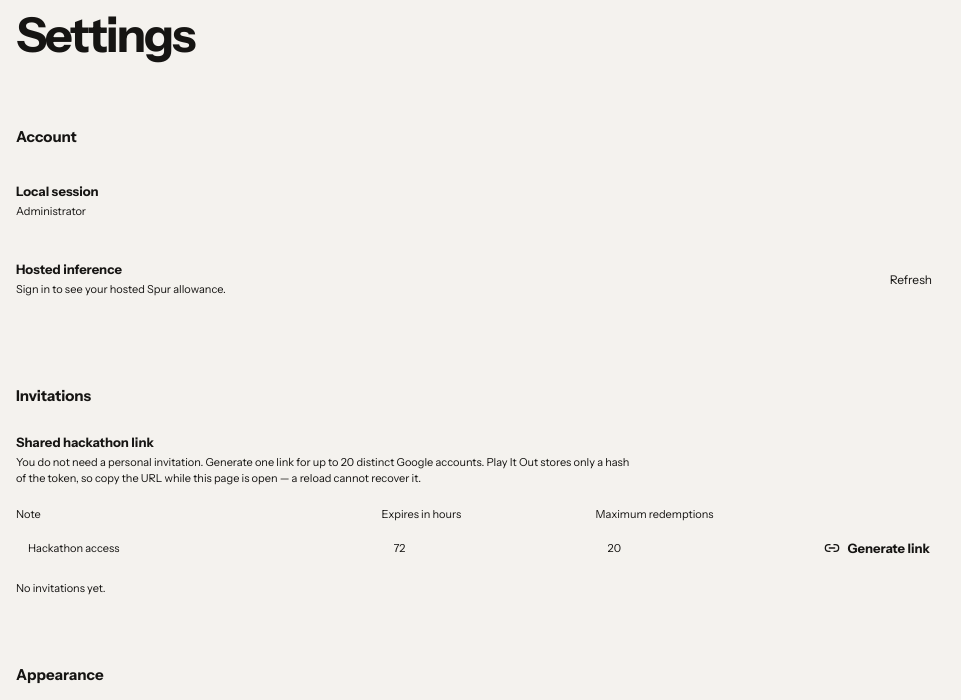
invitation creation and revocation work even when clipboard permission never resolves
The width and height of the screenshot is (961, 700).
Click the button "Generate link". click: click(877, 548)
box: left=810, top=527, right=944, bottom=569
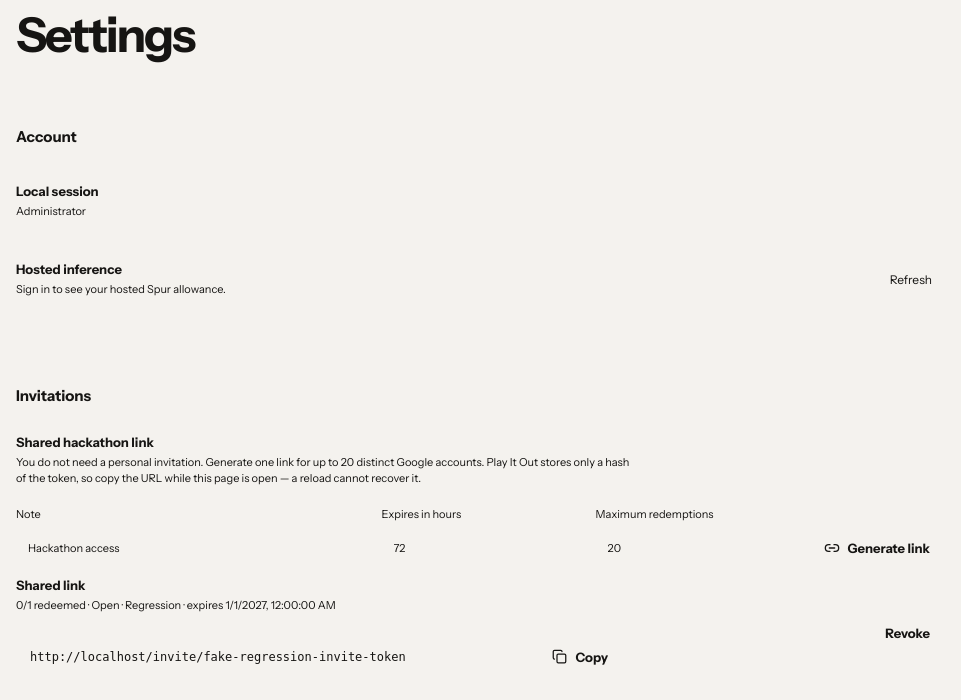
Check: the button "Revoke" is enabled
Check: the button "Copy" is enabled, box left=538, top=636, right=622, bottom=678
Click the button "Revoke". click: click(908, 634)
box: left=871, top=612, right=944, bottom=654
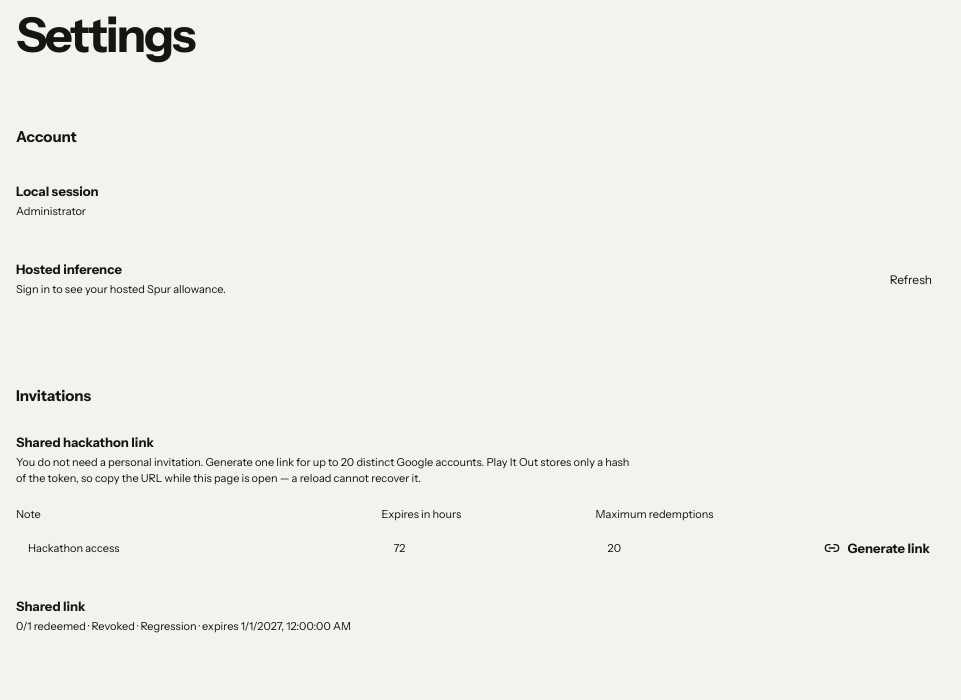
Check: the text "redeemed · Revoked" is shown, box left=16, top=618, right=351, bottom=632
Check: the text "fake-regression-invite-token" is gone
